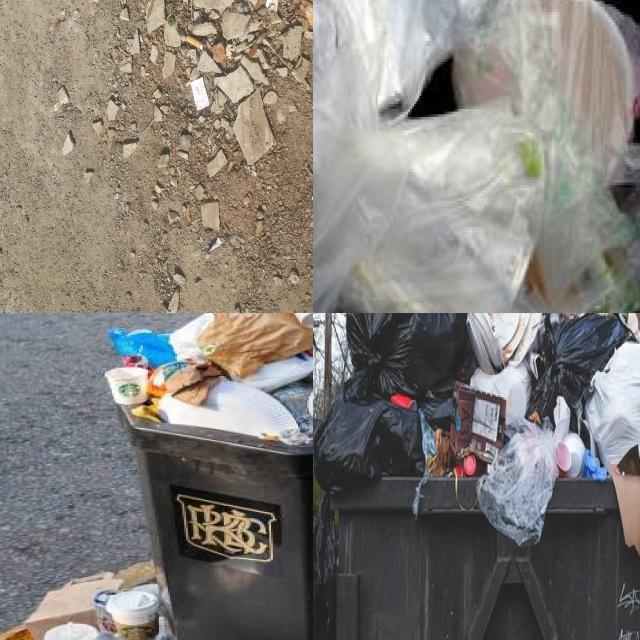Cig_bud: (186, 35, 210, 50)
Disposable: (160, 380, 298, 437), (466, 313, 541, 373), (106, 590, 160, 640), (104, 367, 149, 405), (43, 622, 99, 640), (564, 433, 586, 477)
Garbage: (313, 0, 640, 313), (314, 313, 640, 544), (106, 313, 313, 444)
Plastic_Bag: (527, 313, 628, 428), (314, 396, 425, 492), (347, 313, 466, 399), (478, 419, 557, 545), (586, 342, 640, 467)
Plastic_wraper: (206, 238, 223, 255)
contaminated_waste: (313, 0, 640, 313)
